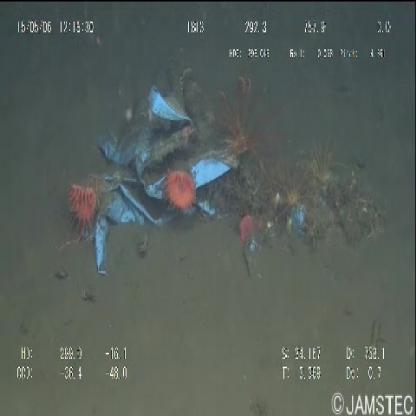Rác: (90, 54, 386, 282)
